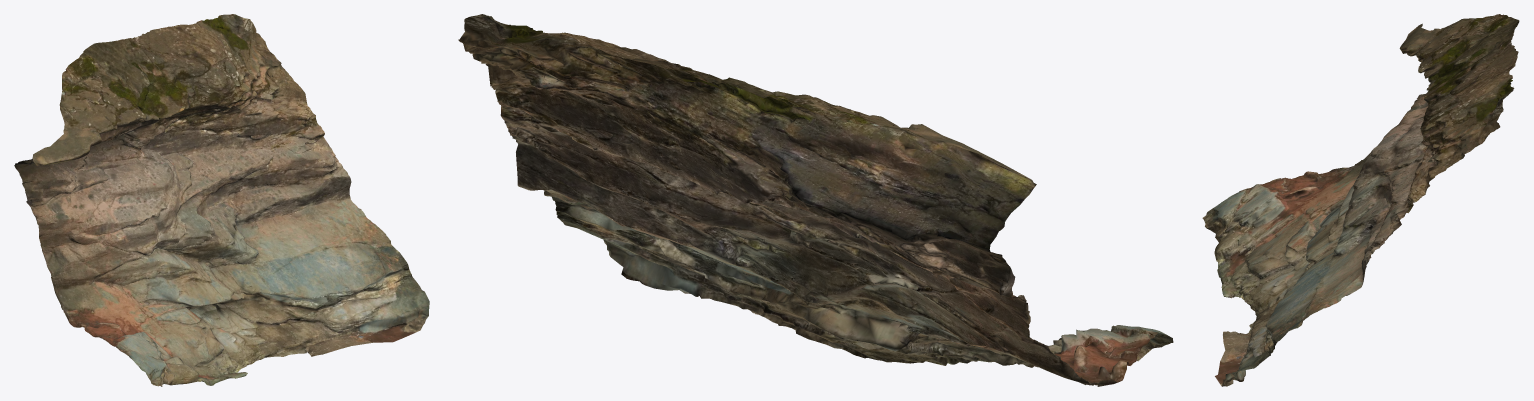
File: rock_face_01.glb
3 views of the same model, side by side, from view 1: azimuth 30°, elevation 25°; view 2: azimuth 150°, elevation 25°; view 3: azimuth 270°, elevation 25° (orthographic). The views are drawn at different scales.
Parts seen in each view (by area): view 1: rock_face_01; view 2: rock_face_01; view 3: rock_face_01.
Boxes of the visible parts, x1=… form: rock_face_01: x1=14, y1=14, x2=429, y2=386; rock_face_01: x1=458, y1=14, x2=1173, y2=386; rock_face_01: x1=1202, y1=14, x2=1519, y2=386.
Size of the model in its own units: 4.95 by 3.56 by 3.83.
Materials: 1 (1 with a texture image).
